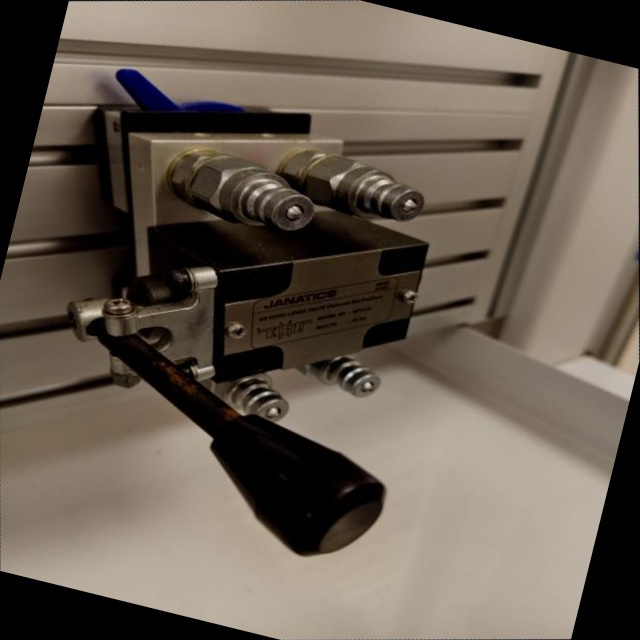4by3 hand lever valve: (0, 0, 558, 640)
